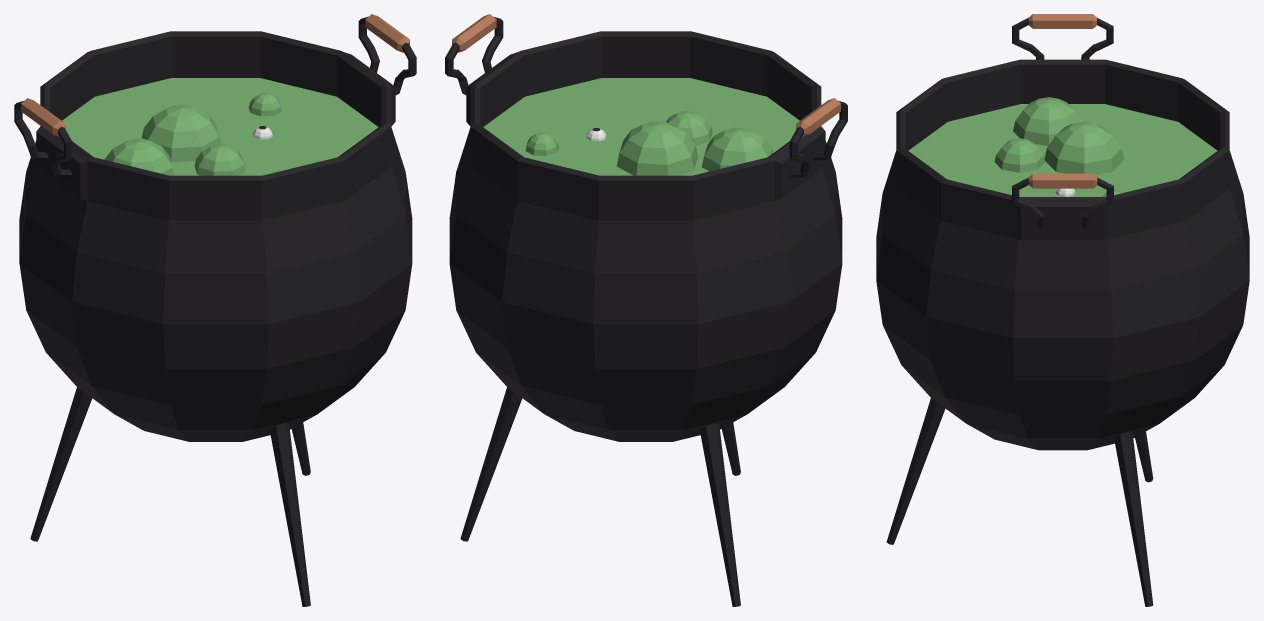
The model's file is Caldron.glb.
3 renders of one model, left to right at view 1: azimuth 30°, elevation 25°; view 2: azimuth 150°, elevation 25°; view 3: azimuth 270°, elevation 25°, orthographic. The views are drawn at different scales.
Parts seen in each view (by area): view 1: Caldron; view 2: Caldron; view 3: Caldron.
Boxes of the visible parts, x1,y1,x2,y2 form: Caldron: (14, 14, 416, 606); Caldron: (445, 14, 847, 606); Caldron: (876, 14, 1249, 606).
Bounding box in the file's own units: 0.3218 × 0.4071 × 0.3063.
1 material, 1 textured.
